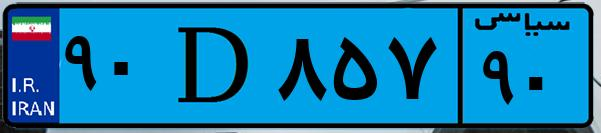0: (525, 38, 570, 115), (110, 28, 158, 98)
5: (330, 28, 385, 110)
7: (385, 28, 445, 110)
8: (270, 28, 330, 110)
9: (57, 26, 110, 100), (475, 38, 525, 113)
D: (158, 12, 270, 120)
